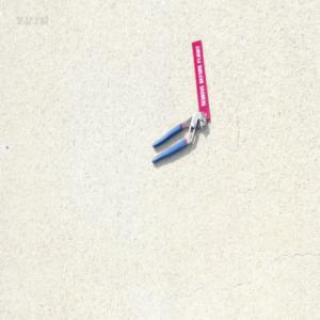LuggageTagtrack_idkeyframe: (191, 40, 209, 120)
Pliertrack_idkeyframe: (150, 110, 205, 164)
